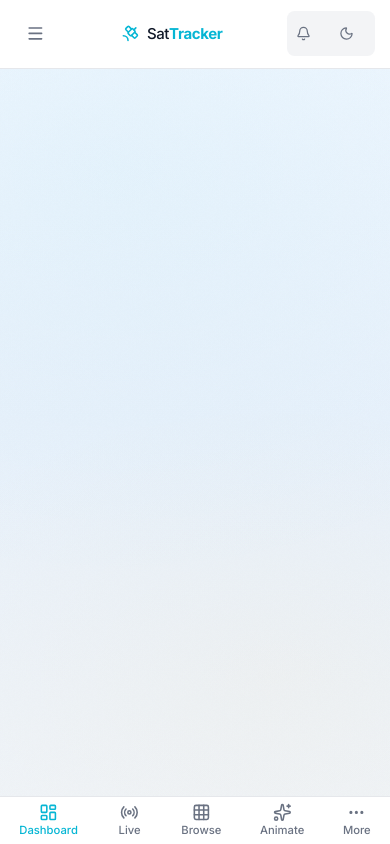
Test: Layout - mobile drawer › opens drawer when menu button clicked
The width and height of the screenshot is (390, 844).
Step 1. Click the button named "Open menu" → (36, 34), box [15, 13, 56, 54]
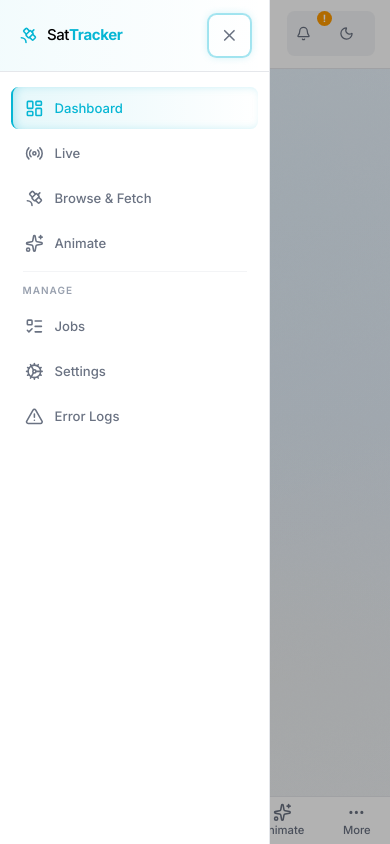
Now the dialog named "Navigation menu" is shown
Now the 1st button named "Close menu" is shown
